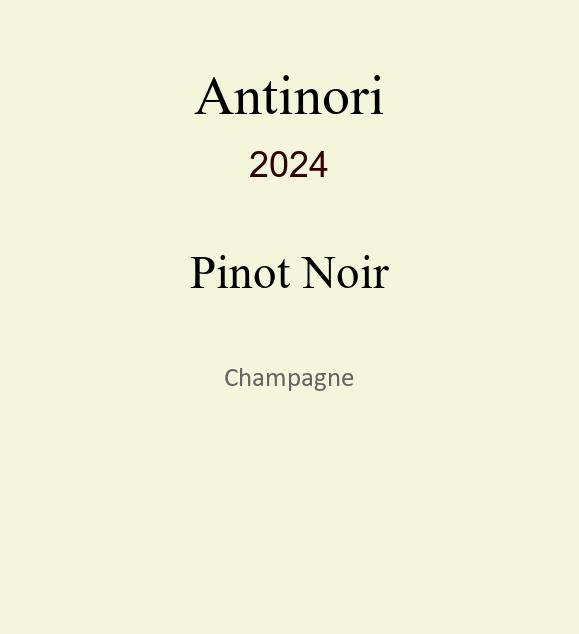brand: (194, 64, 385, 103)
region: (224, 365, 354, 388)
variety: (190, 246, 389, 279)
vintage: (249, 144, 329, 170)
